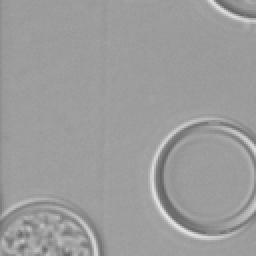picoshell: (150, 118, 254, 238), (0, 198, 100, 254), (206, 0, 254, 26)
